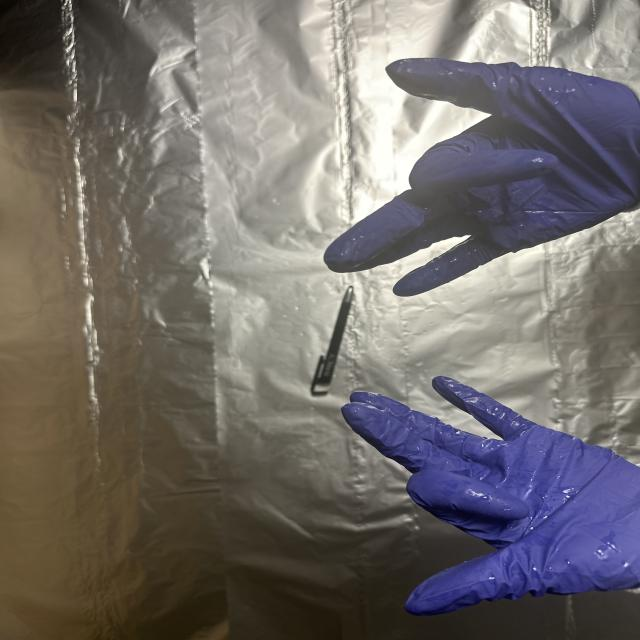gloves_contaminated: (325, 58, 640, 296), (342, 377, 640, 616)
